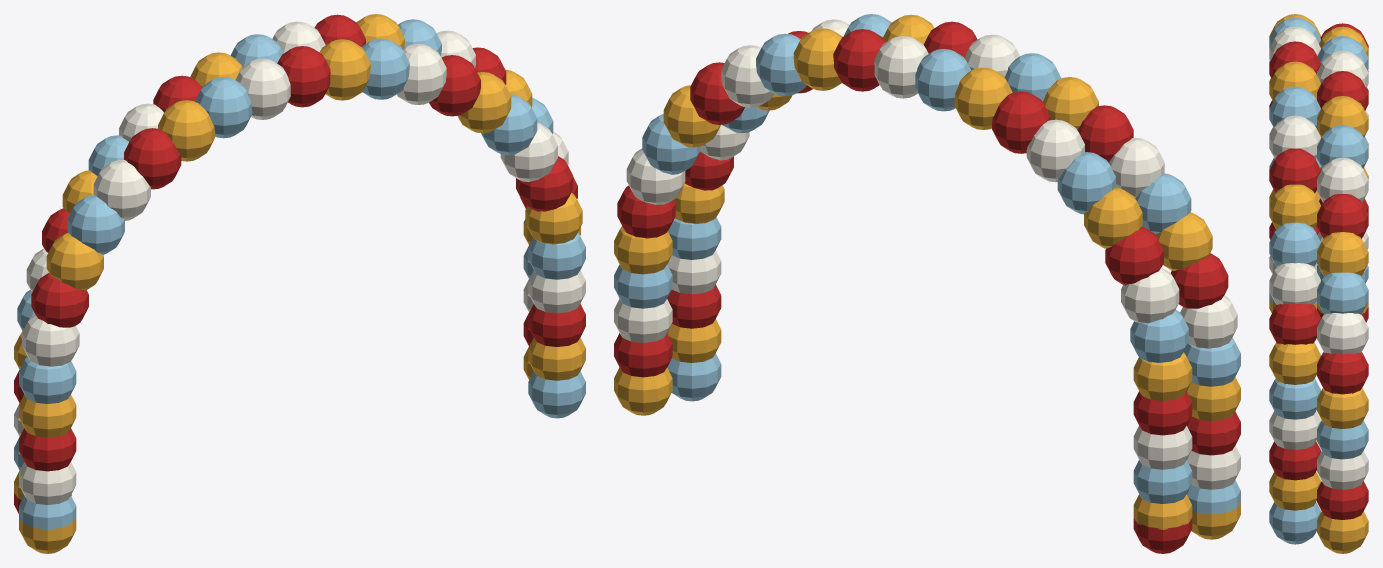
File: scendance-plan-balloon-arch.glb
3 views of the same model, side by side, from view 1: azimuth 30°, elevation 25°; view 2: azimuth 150°, elevation 25°; view 3: azimuth 270°, elevation 25° (orthographic). The views are drawn at different scales.
Size of the model in its own units: 4.33 by 3.14 by 0.7105.
